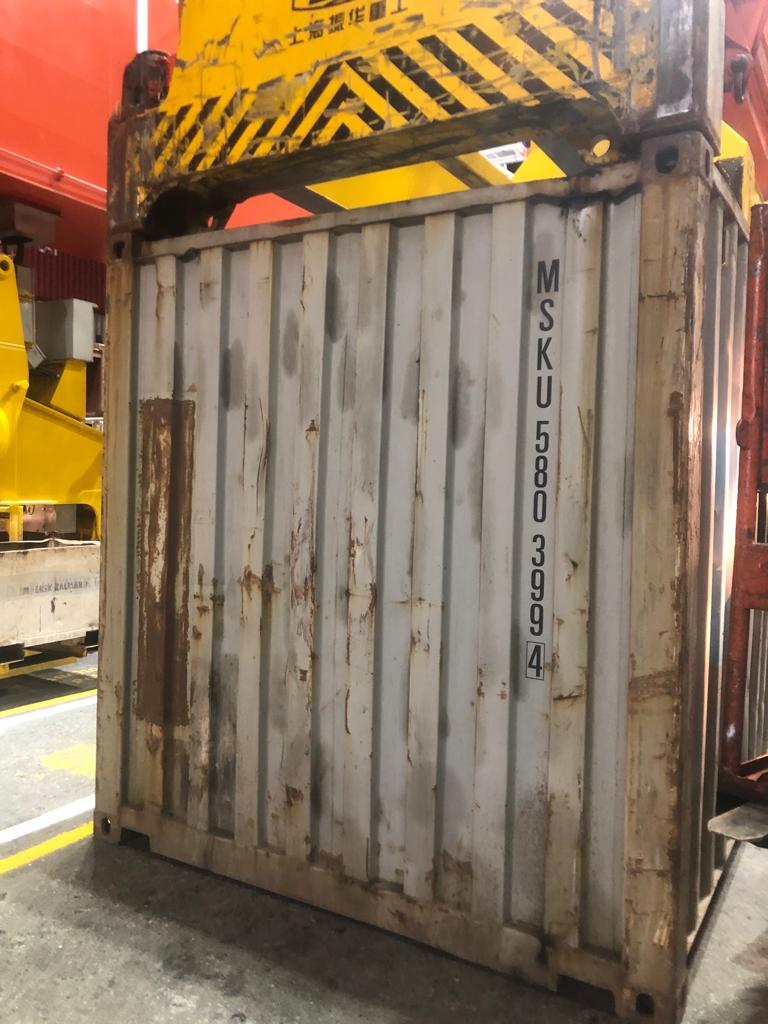rust: (255, 771, 495, 913), (139, 392, 194, 728), (235, 522, 387, 636), (630, 560, 692, 810), (644, 373, 713, 530)
